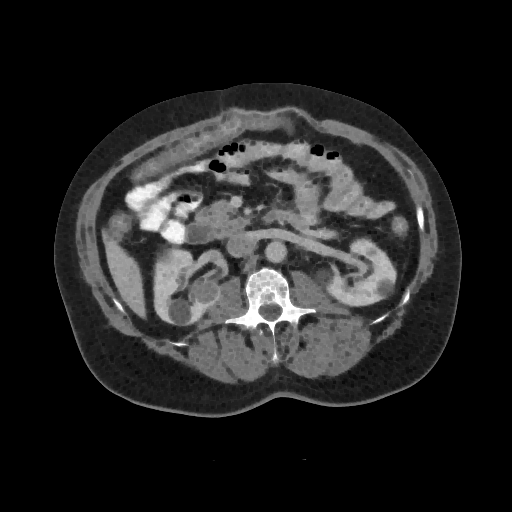Lesion: (190, 280, 220, 305)
